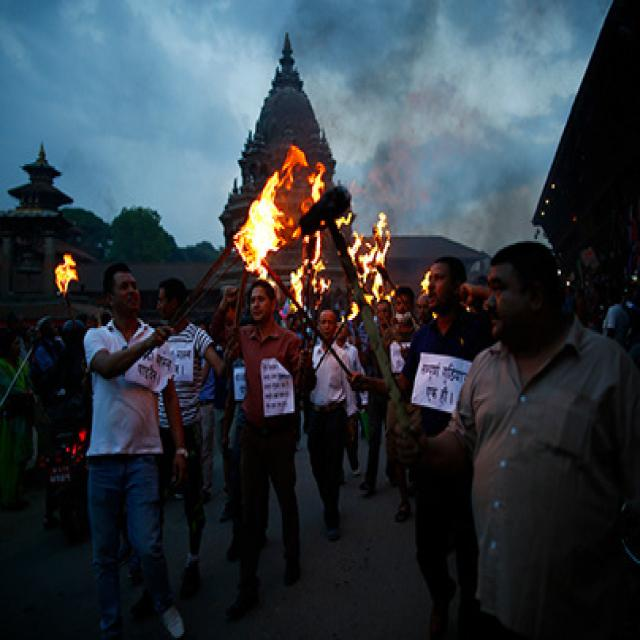fire: (233, 170, 279, 279), (359, 211, 391, 305), (312, 231, 331, 309)
